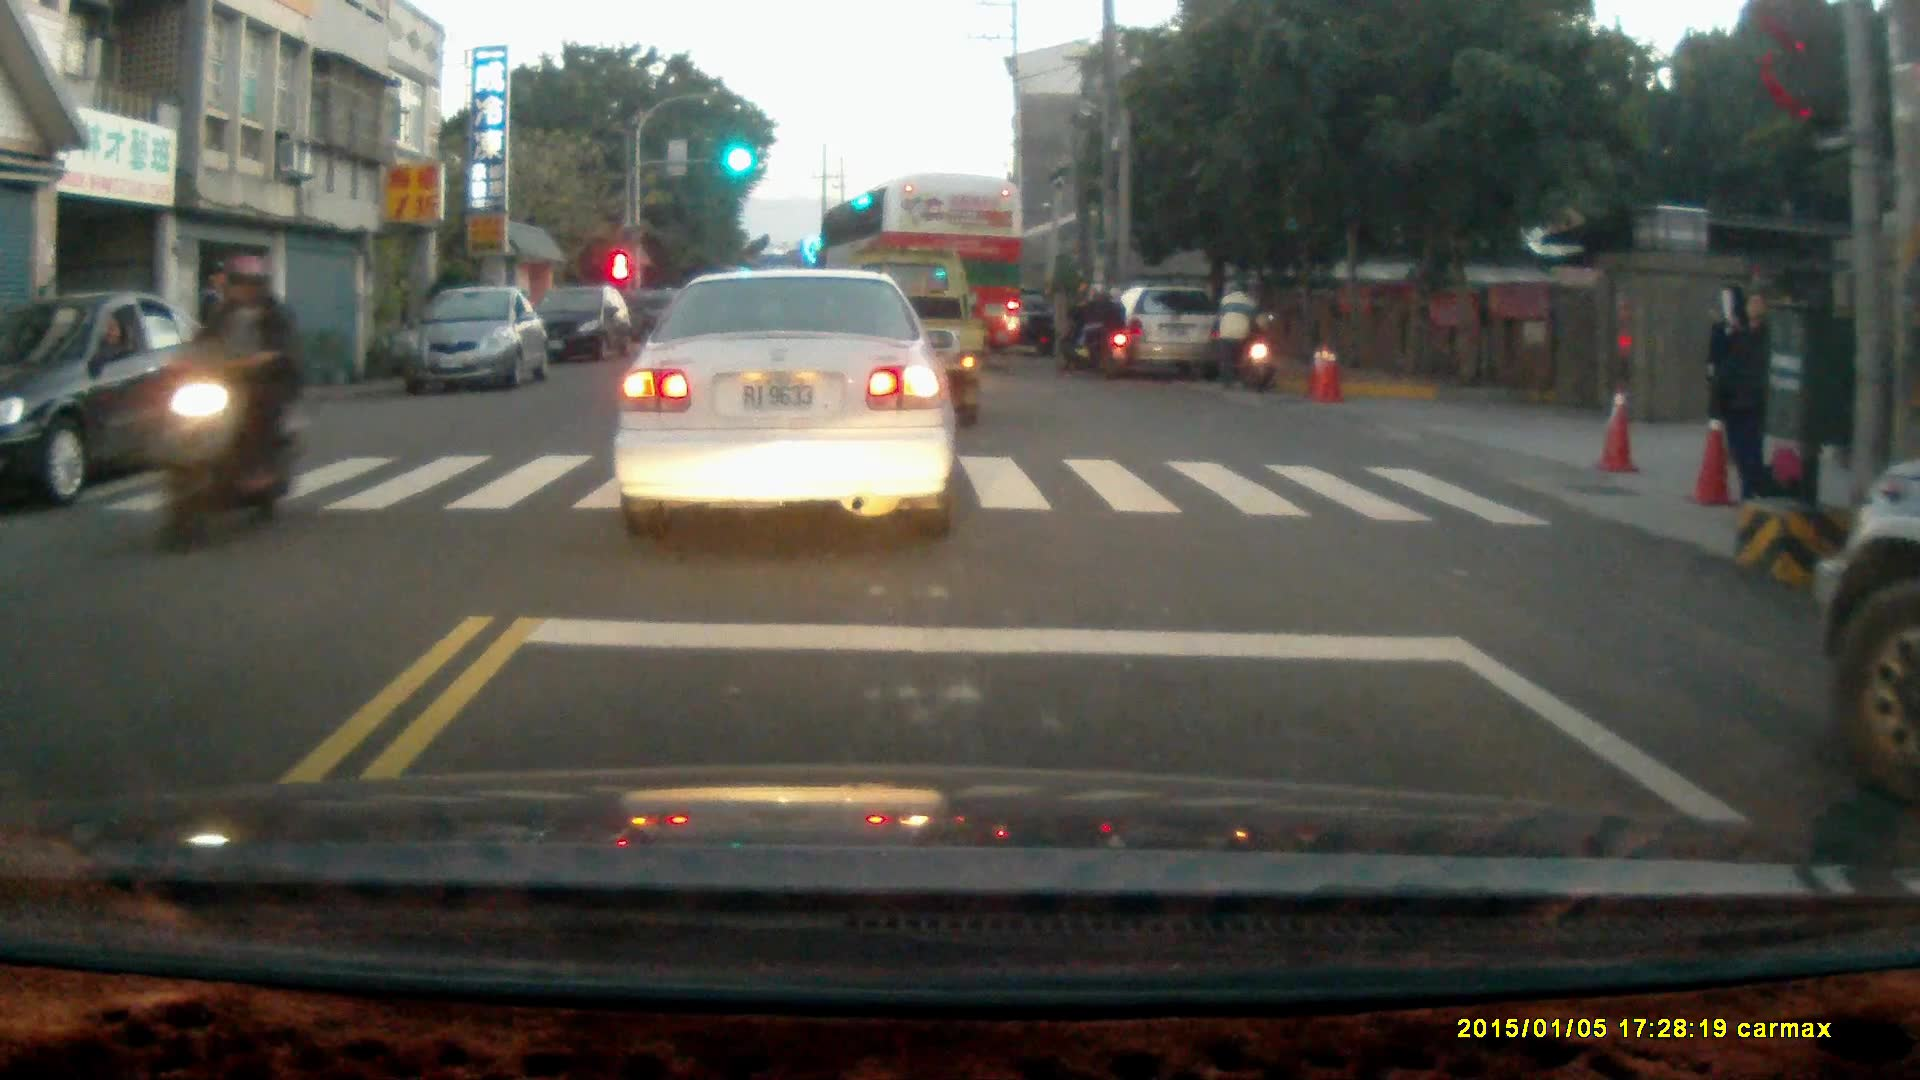pedestrian: (1718, 287, 1787, 513), (196, 262, 251, 446), (1704, 279, 1756, 459), (1218, 273, 1260, 386)
rider: (153, 249, 301, 556), (1058, 280, 1124, 383)
vehicle: (608, 266, 959, 544), (2, 293, 242, 509), (815, 172, 1029, 376), (1807, 459, 1920, 812), (392, 288, 547, 401), (1101, 285, 1225, 384), (530, 284, 633, 366)
